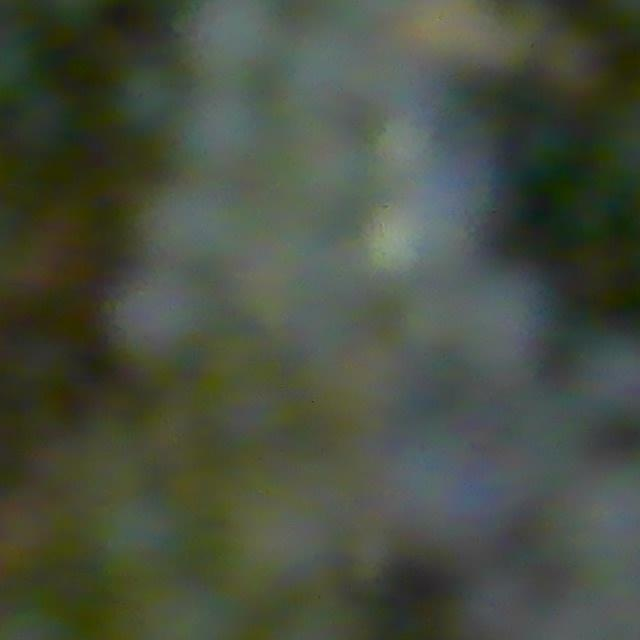SeaGrape: (378, 435, 508, 559), (243, 472, 343, 581), (311, 340, 425, 426), (451, 259, 546, 359), (122, 274, 212, 377), (143, 179, 241, 270), (262, 254, 362, 336), (191, 0, 278, 84), (175, 104, 268, 181), (580, 318, 640, 422), (362, 203, 441, 280), (534, 24, 610, 103), (89, 500, 166, 576), (112, 60, 187, 136), (141, 194, 204, 264), (285, 47, 341, 110)
